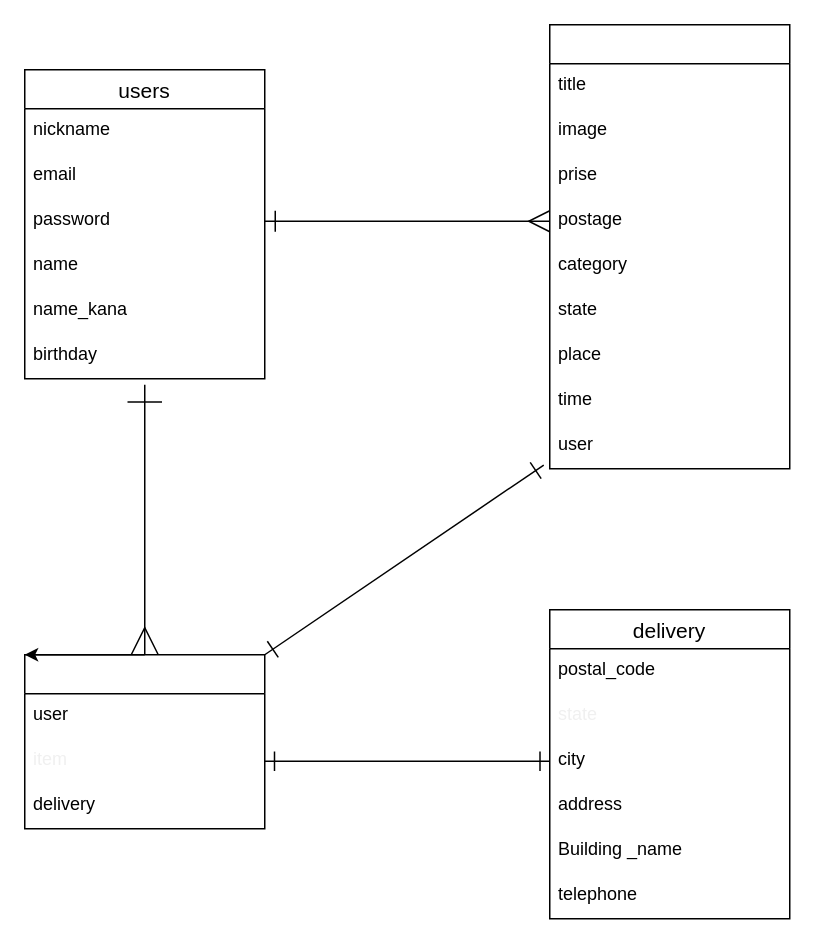
Image size: 815x944. Some labels were removed from this diagram. The box of each missing label's shape, as (x1, y1, x2, y2) in pixels:
buys: (23, 653, 265, 829)
items: (548, 23, 790, 469)
